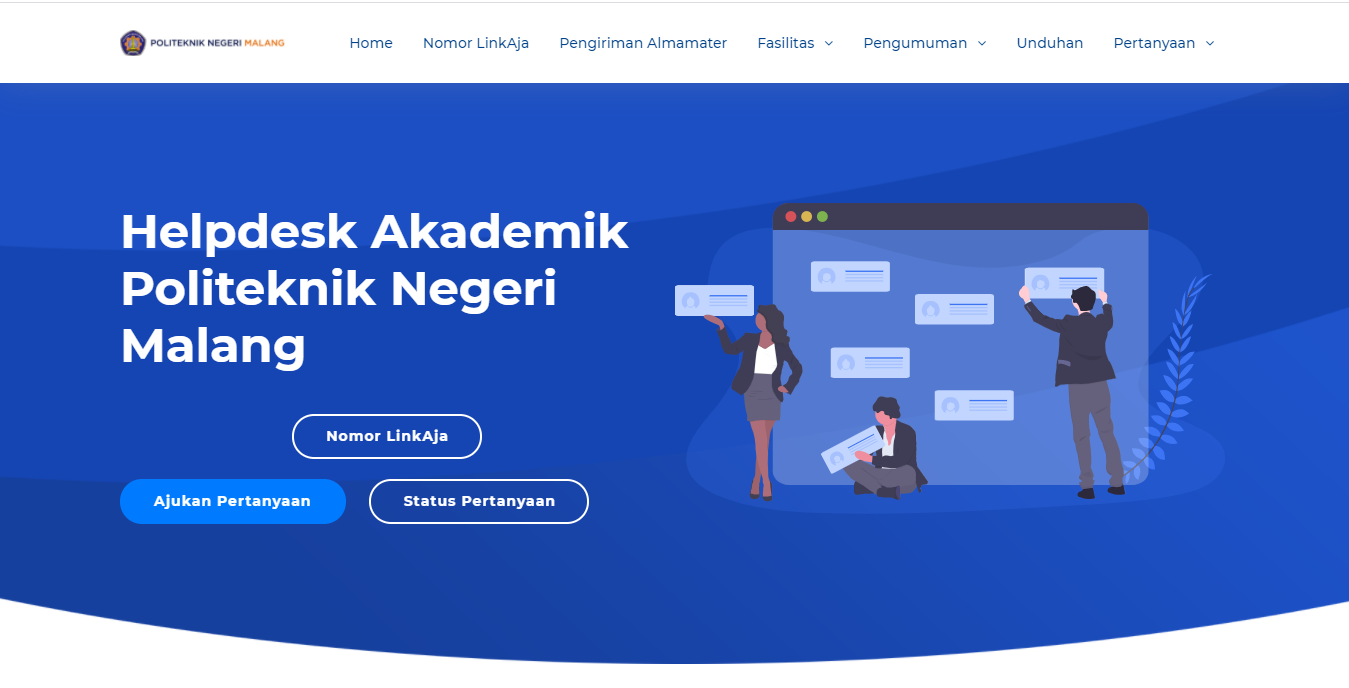Button: (114, 474, 349, 531), (365, 473, 593, 529), (287, 410, 486, 461)
Image: (665, 163, 1241, 545), (103, 20, 294, 67)
Menu Bar: (324, 18, 1234, 65)
